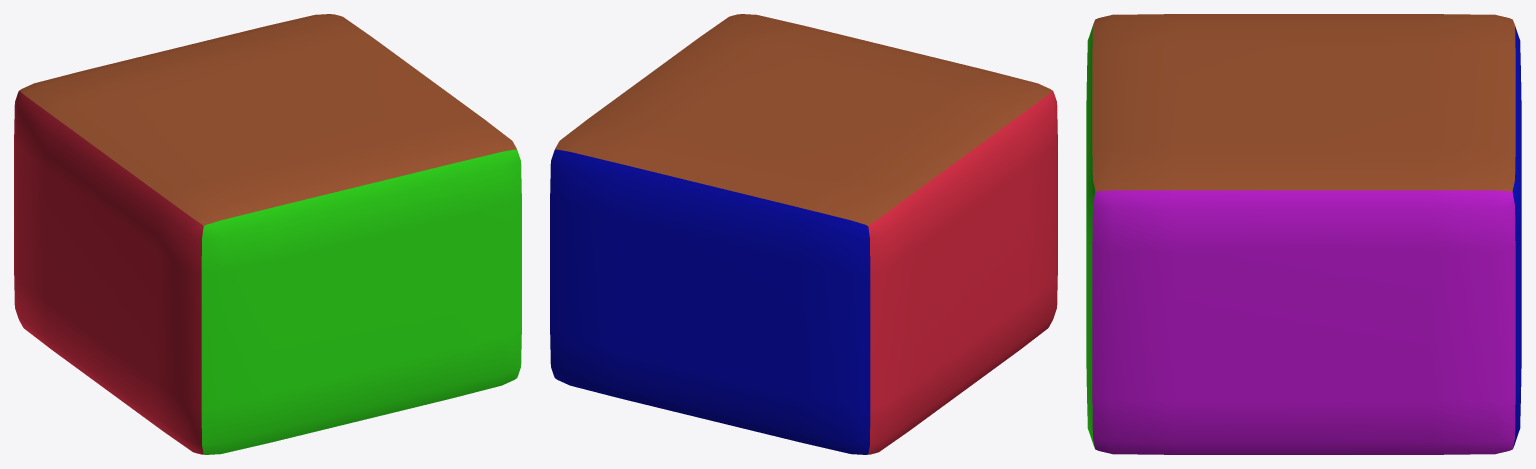
3 renders of one model, left to right at view 1: azimuth 30°, elevation 25°; view 2: azimuth 150°, elevation 25°; view 3: azimuth 270°, elevation 25°, orthographic. The views are drawn at different scales.
Parts seen in each view (by area): view 1: Cube; view 2: Cube; view 3: Cube.
Part boxes in pixels (x1,y1,x2,y2): Cube: (14, 14, 521, 454); Cube: (550, 14, 1057, 454); Cube: (1086, 14, 1521, 454).
Bounding box in the file's own units: 200 × 140 × 200.
